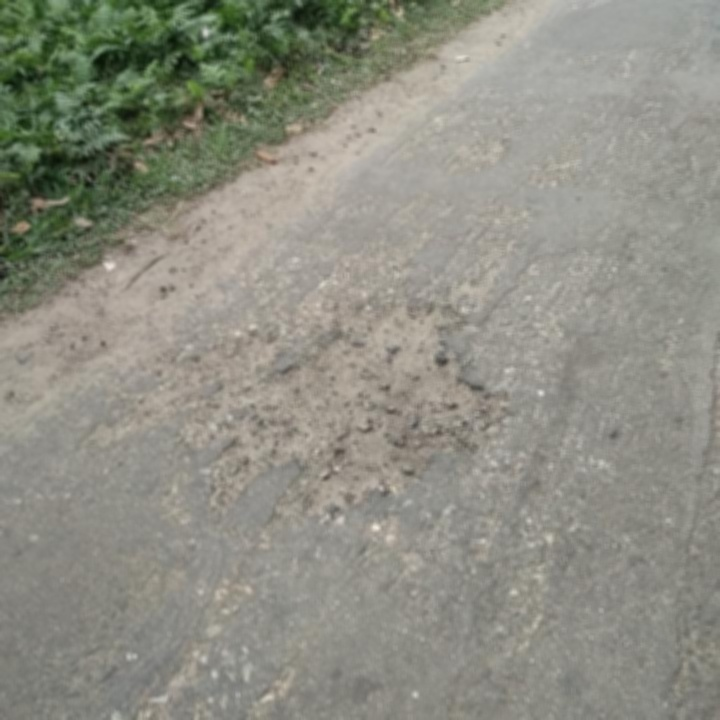pothole: (242, 295, 494, 505)
